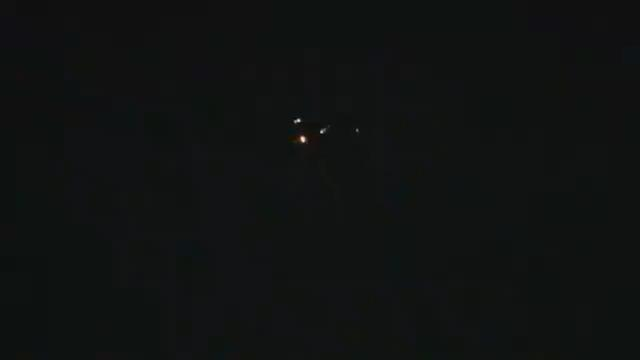Plane: (253, 106, 325, 159)
